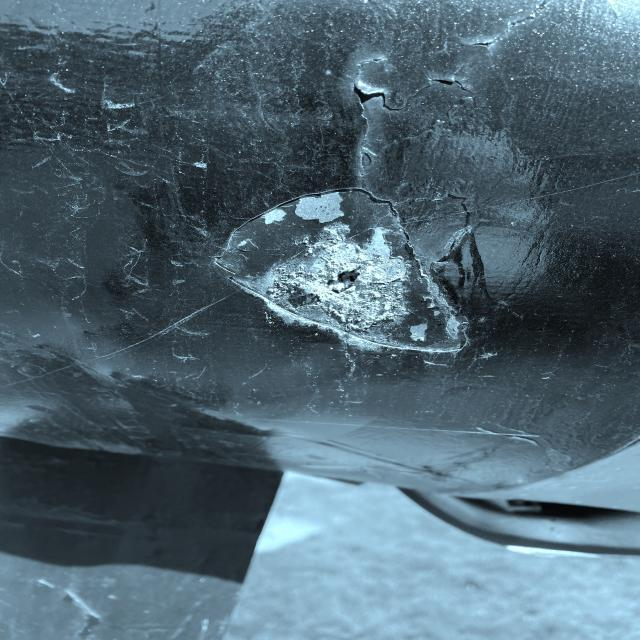crack: (465, 16, 572, 61), (341, 72, 414, 127), (431, 69, 500, 105)
dent: (209, 172, 516, 380)
